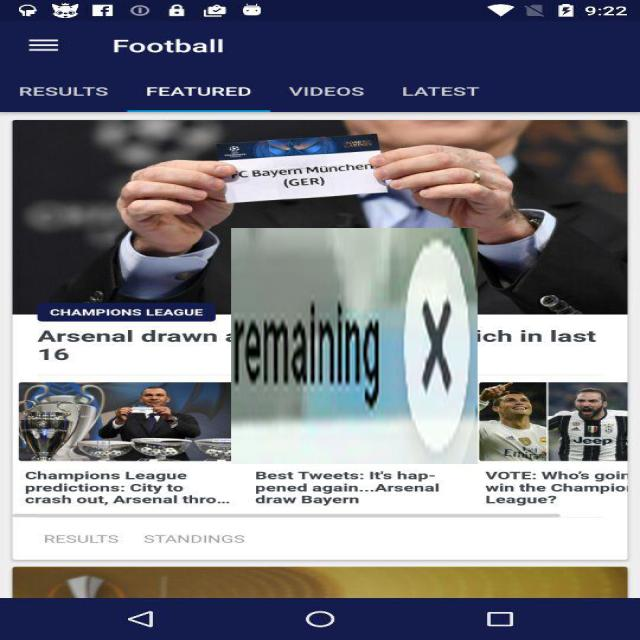misdirection: (231, 228, 478, 464)
